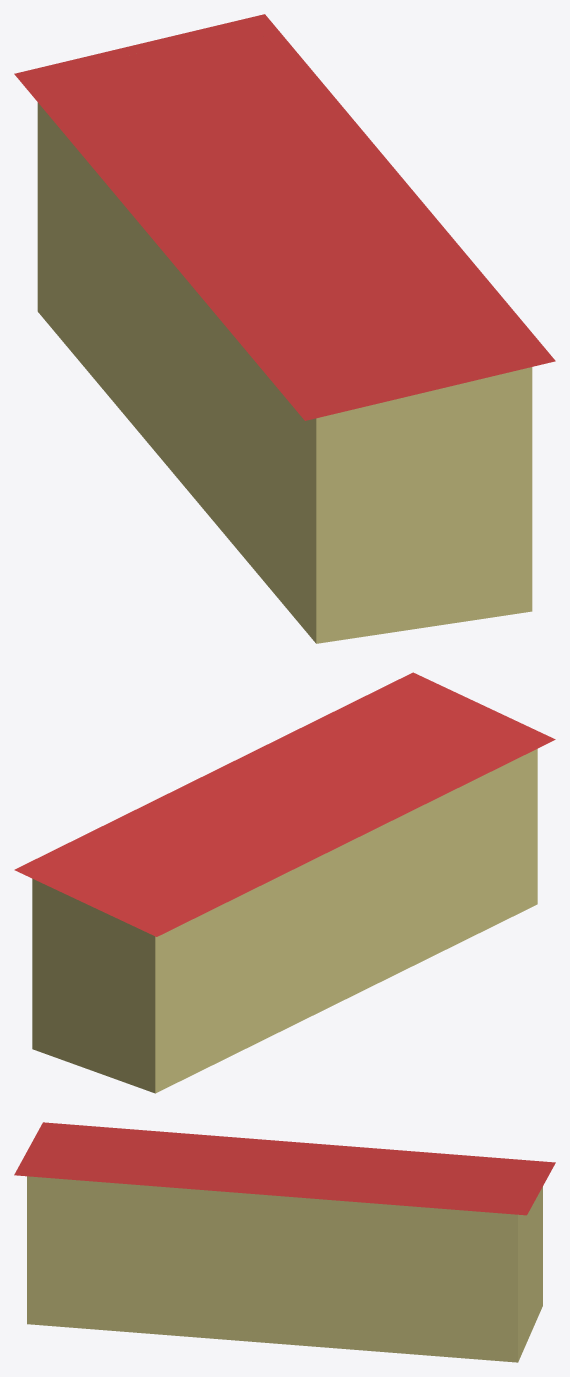
3 views of the same model, one above another, from view 1: azimuth 30°, elevation 25°; view 2: azimuth 150°, elevation 25°; view 3: azimuth 270°, elevation 25° (orthographic). The views are drawn at different scales.
Bounding box in the file's own units: 11.41 × 24.56 × 7.63.
